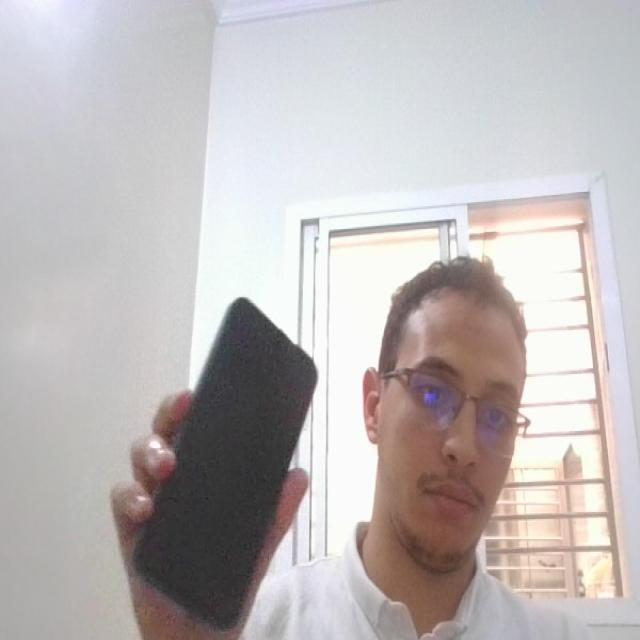phone: (131, 281, 322, 640)
